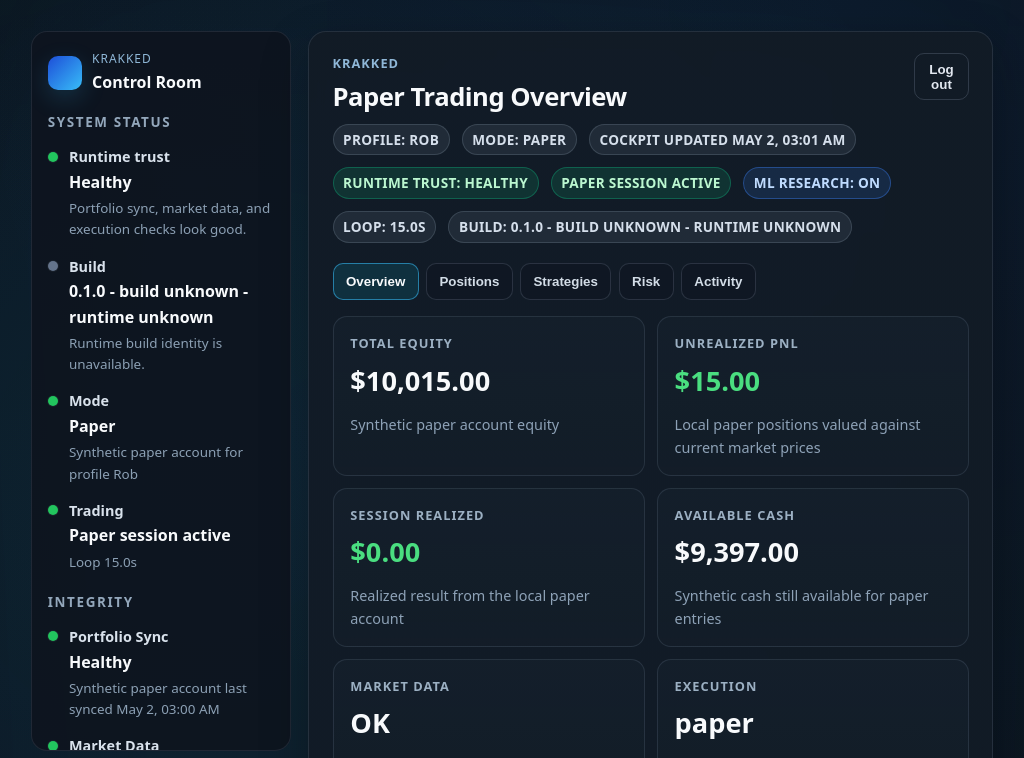
Scenario: cockpit operator paths › groups zero-order risk-blocked activity under the execution plan
Expected: the heading "Paper Trading Overview" is shown, [332,79,627,114]
Expected: the text "Runtime trust: Healthy" is shown, [332,167,539,199]
Click the button with test id "cockpit-tab-activity" at (718, 281), box [681,263,756,300]
(page scrolled)
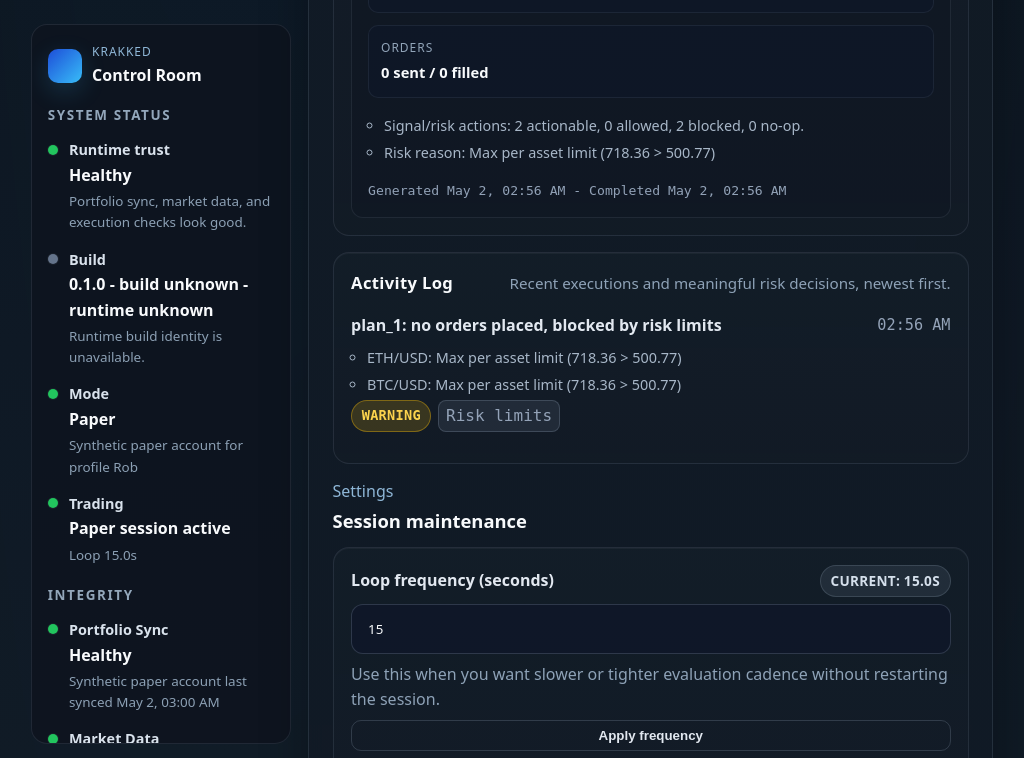
Now the text "0 sent / 0 filled" is shown, box [381,62,489,82]
Now the text "plan_1: no orders placed, blocked by risk limits" is shown, box [351,313,722,339]
Now the list item "ETH/USD: Max per asset limit (718.36 > 500.77)" is shown, box [367,346,722,369]
